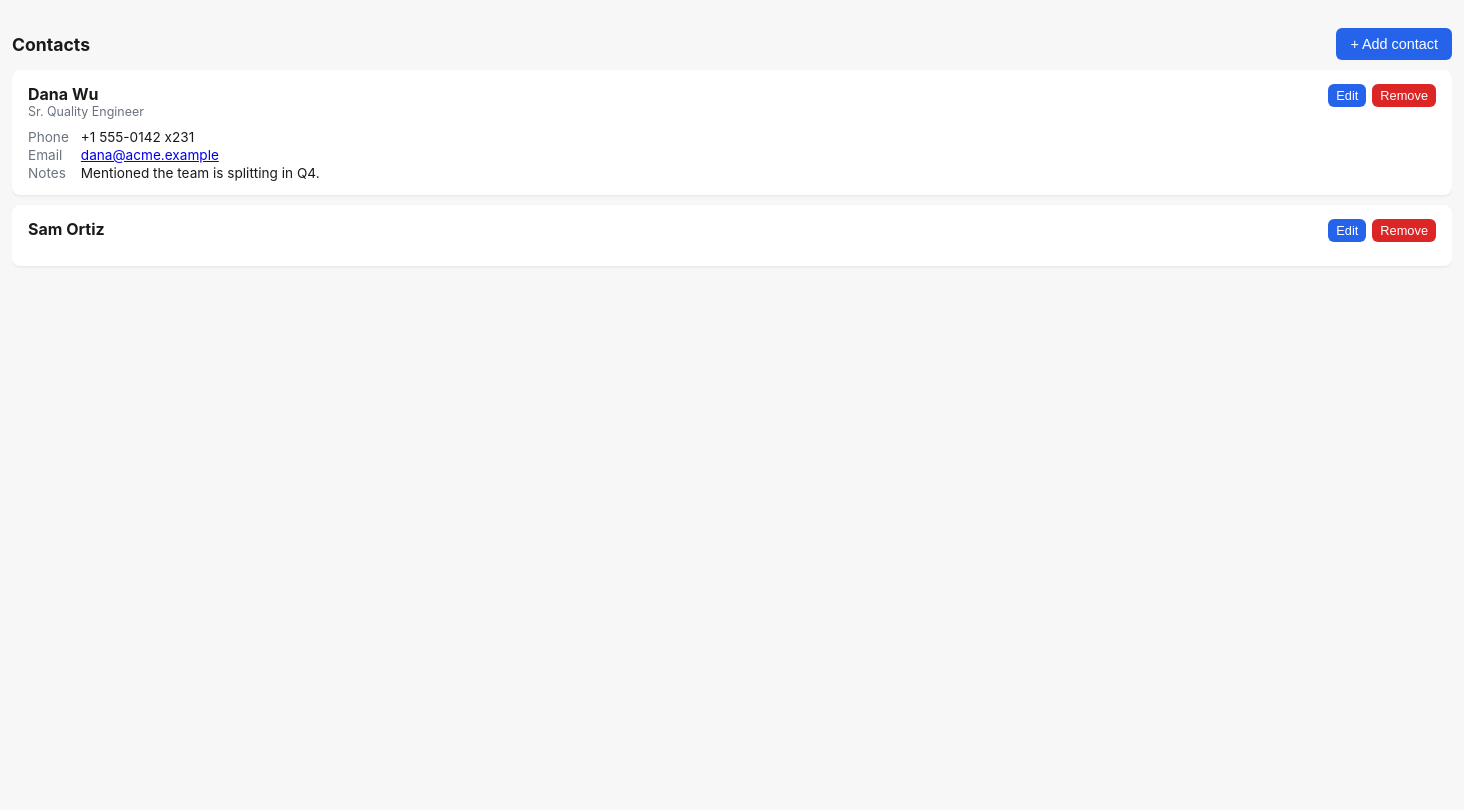
Scenario: ContactsEditor › adding › surfaces a failure from the API
Click the button "+ Add contact": (1394, 44) [1336,28,1452,60]
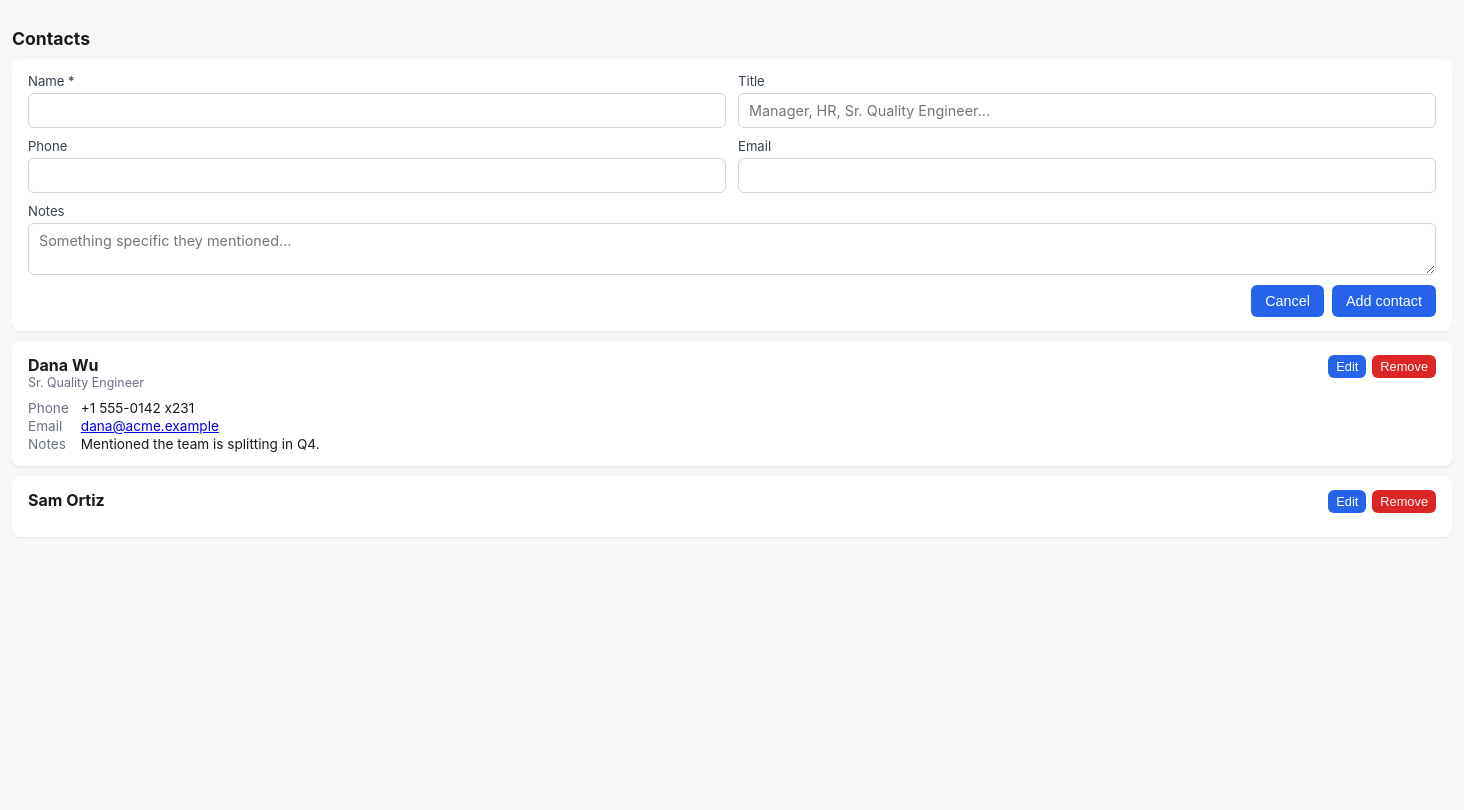
In the field labelled "Name *": (377, 110) [28,93,726,128], type "Jo Rivera"
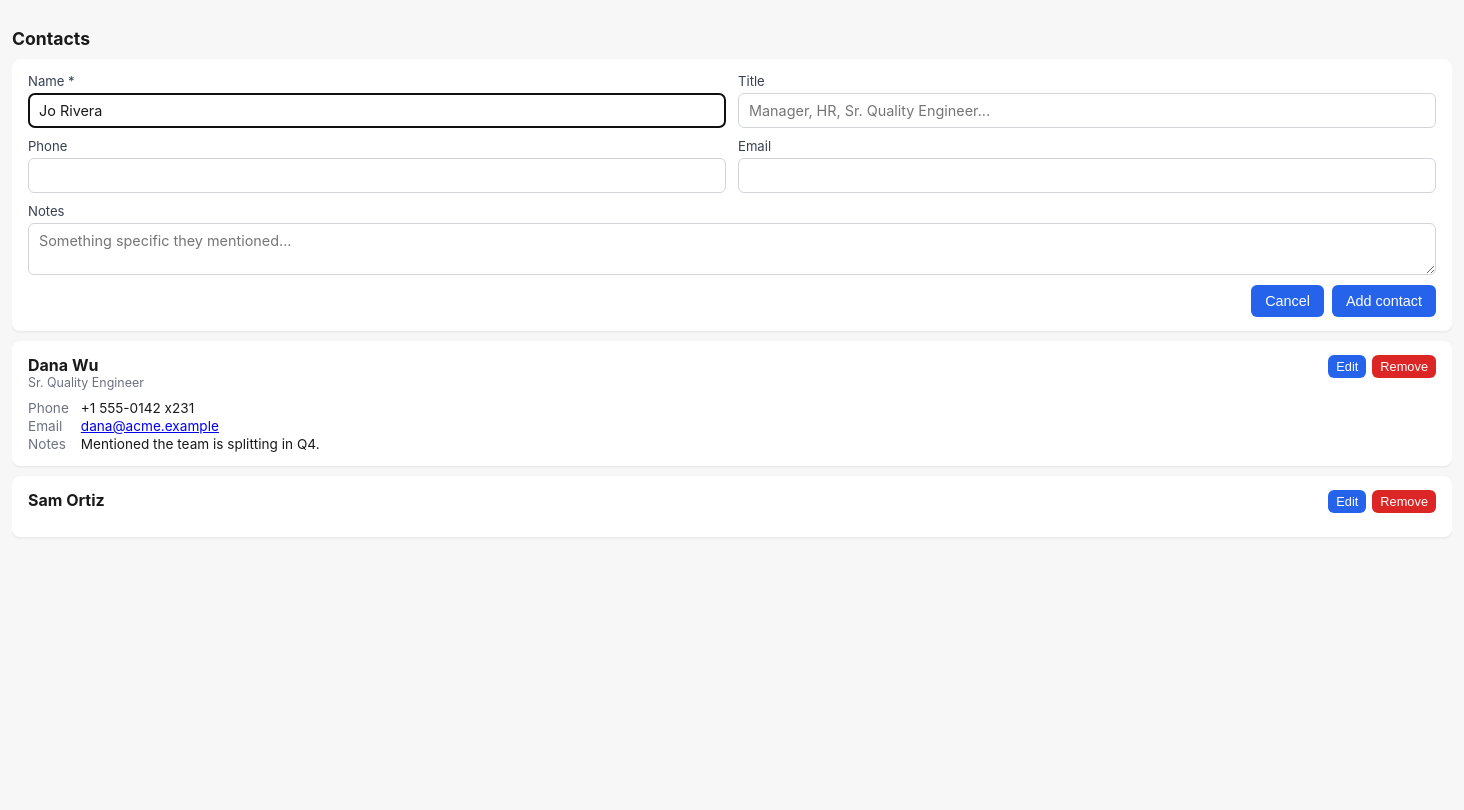
Click the button "Add contact": (1384, 301) [1332,285,1436,317]
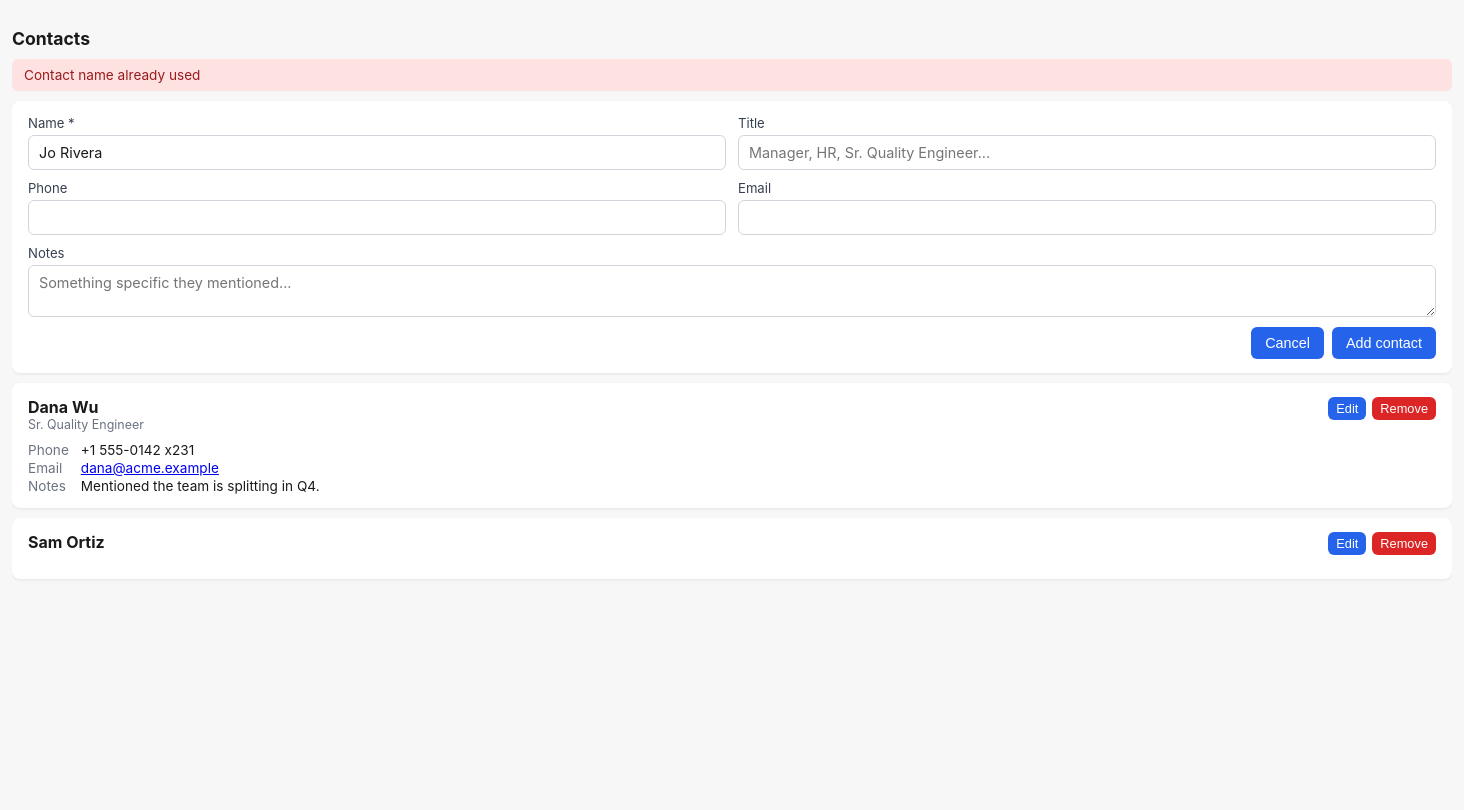
Expected: the text "Contact name already used" is shown, [12,59,1452,91]
